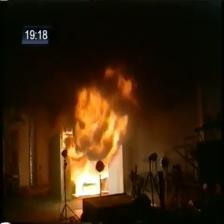fire: (76, 90, 125, 165), (107, 70, 138, 94)
